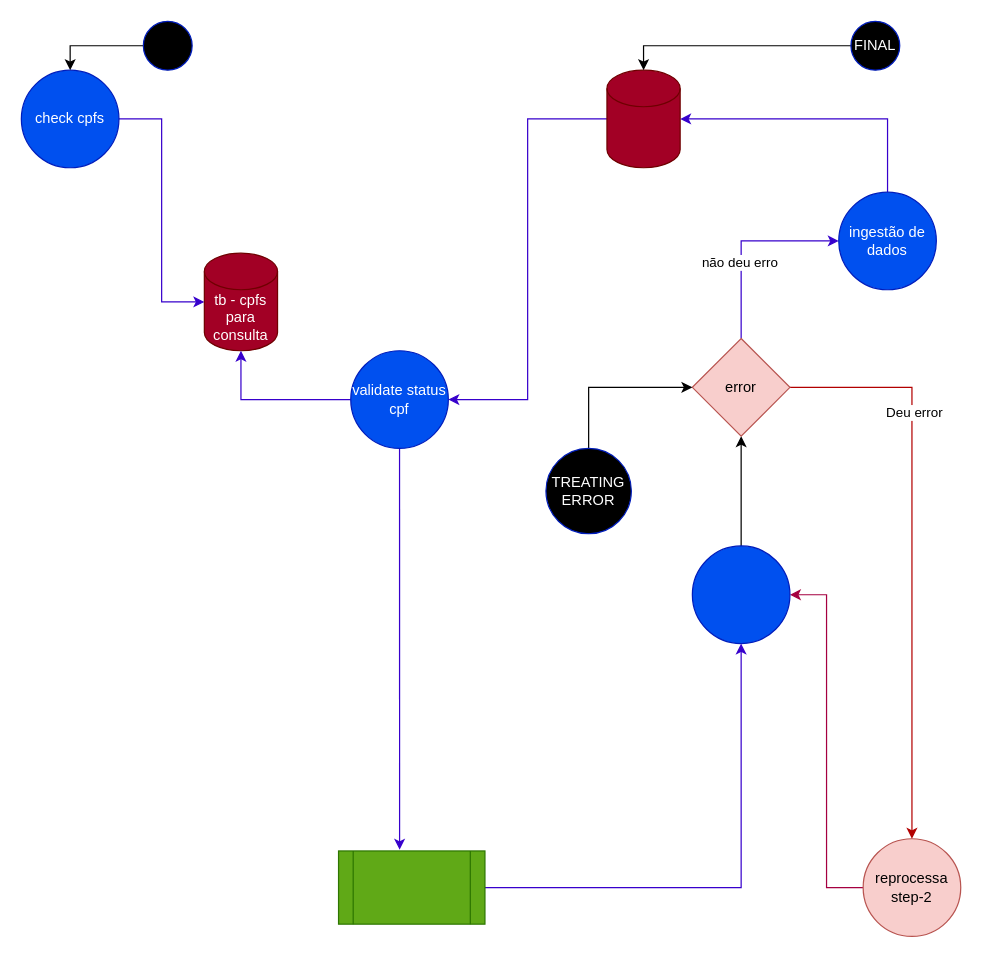
This 982x958 diagram has some shape labels left out. Each missing label, with the box of its shape:
DADOS FINAIS: (606, 69, 680, 168)
INITIAL: (142, 20, 192, 70)
request no serasa: (691, 545, 790, 644)
somente os que não foram consultados: (337, 850, 485, 924)
